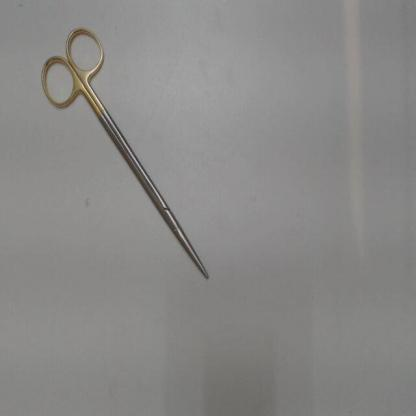7 Metzenbaum Scissors: (38, 21, 214, 286)
